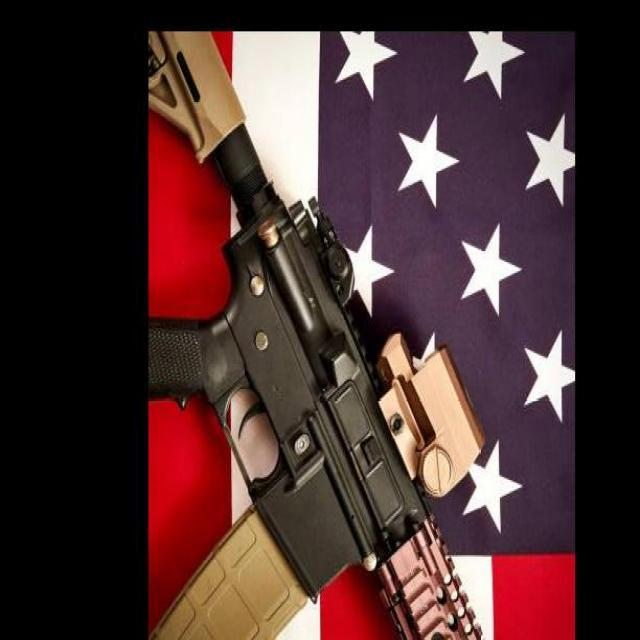weapon: (148, 29, 484, 640)
